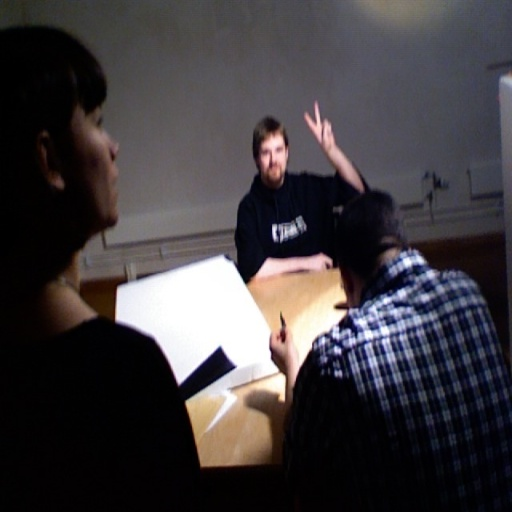hand: (303, 105, 345, 166), (268, 322, 300, 374)
